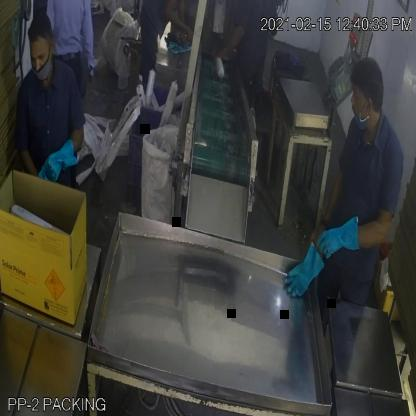glove: (284, 242, 327, 310), (38, 134, 86, 193), (323, 213, 367, 270)
no_glove: (216, 17, 251, 69), (163, 0, 195, 38)
